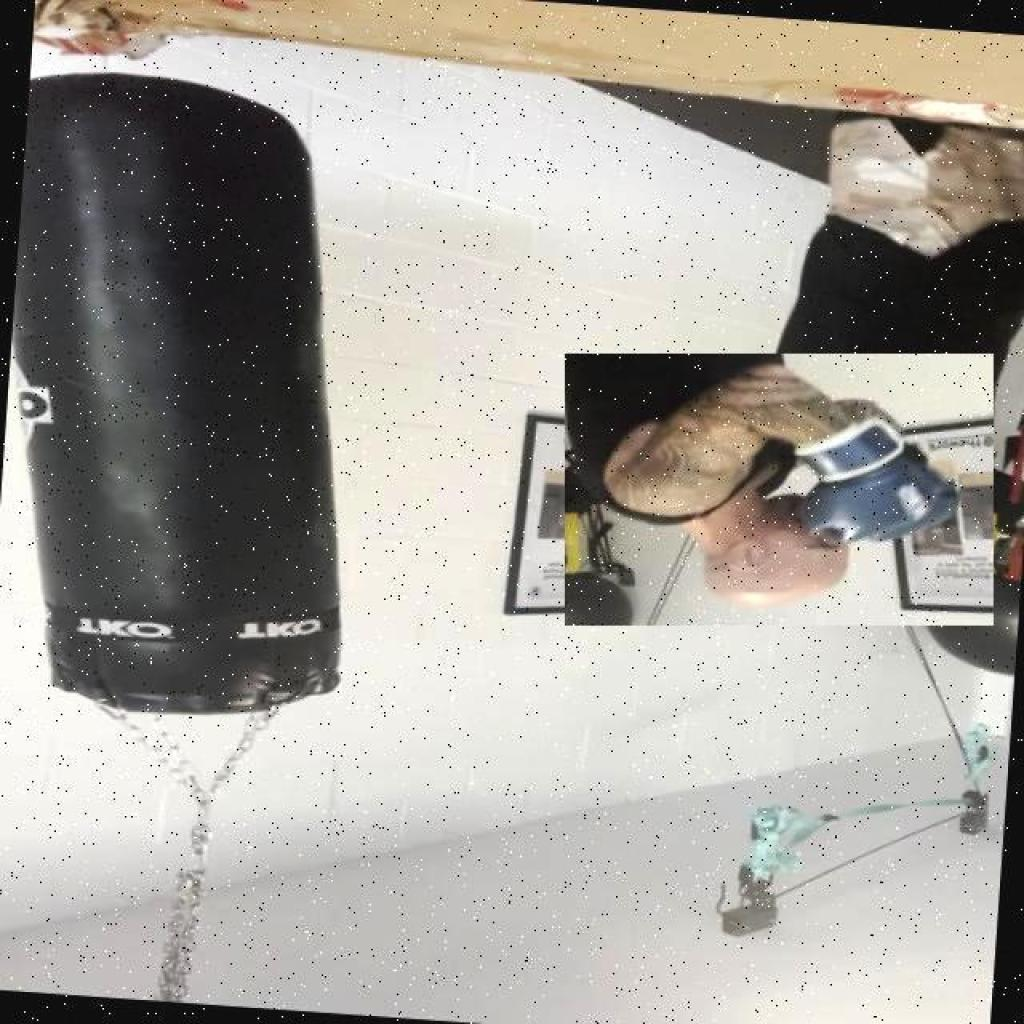bag: (2, 70, 384, 726)
no punch: (564, 354, 994, 626)
